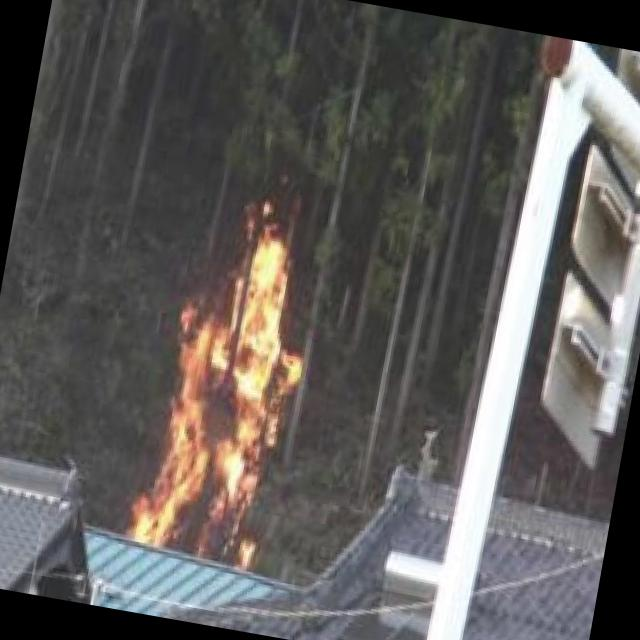Fire: (128, 206, 332, 576)
